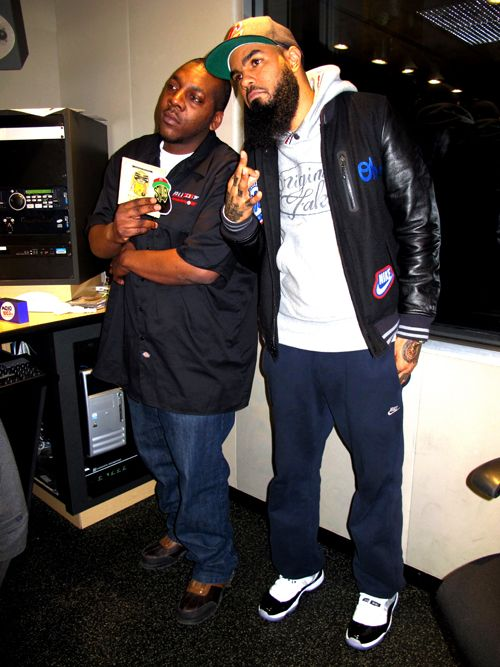Person: (220, 46, 440, 636), (96, 67, 250, 606)
